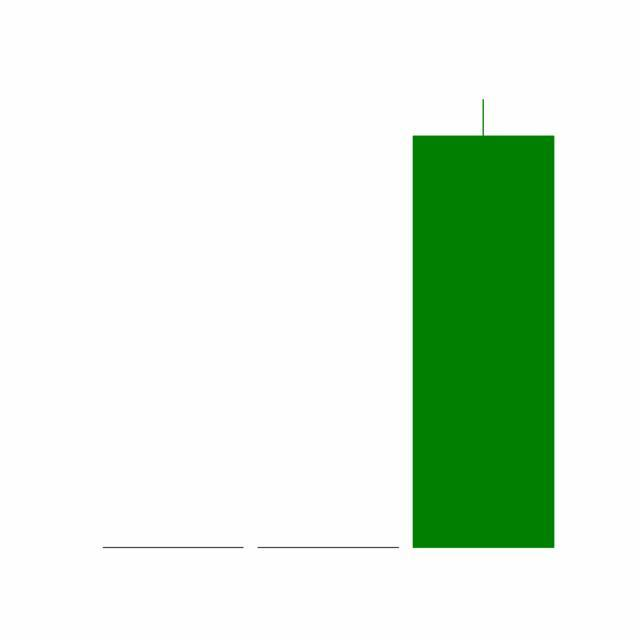Spinning Top: (251, 547, 406, 549)
